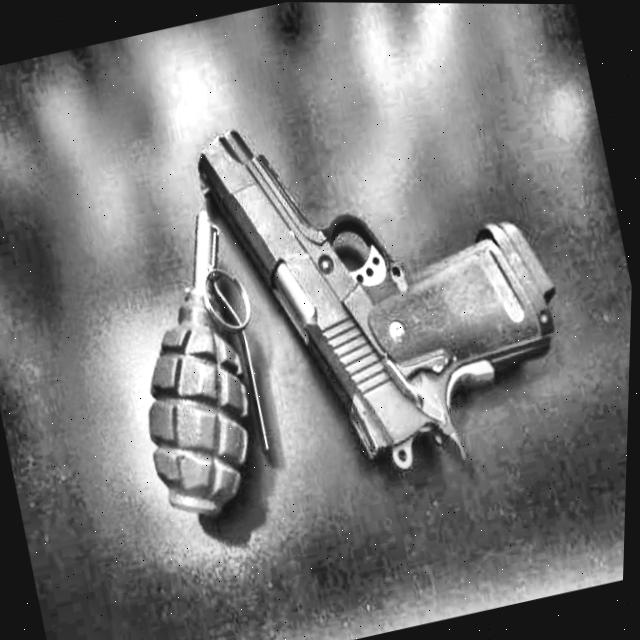pistol: (179, 105, 572, 490)
